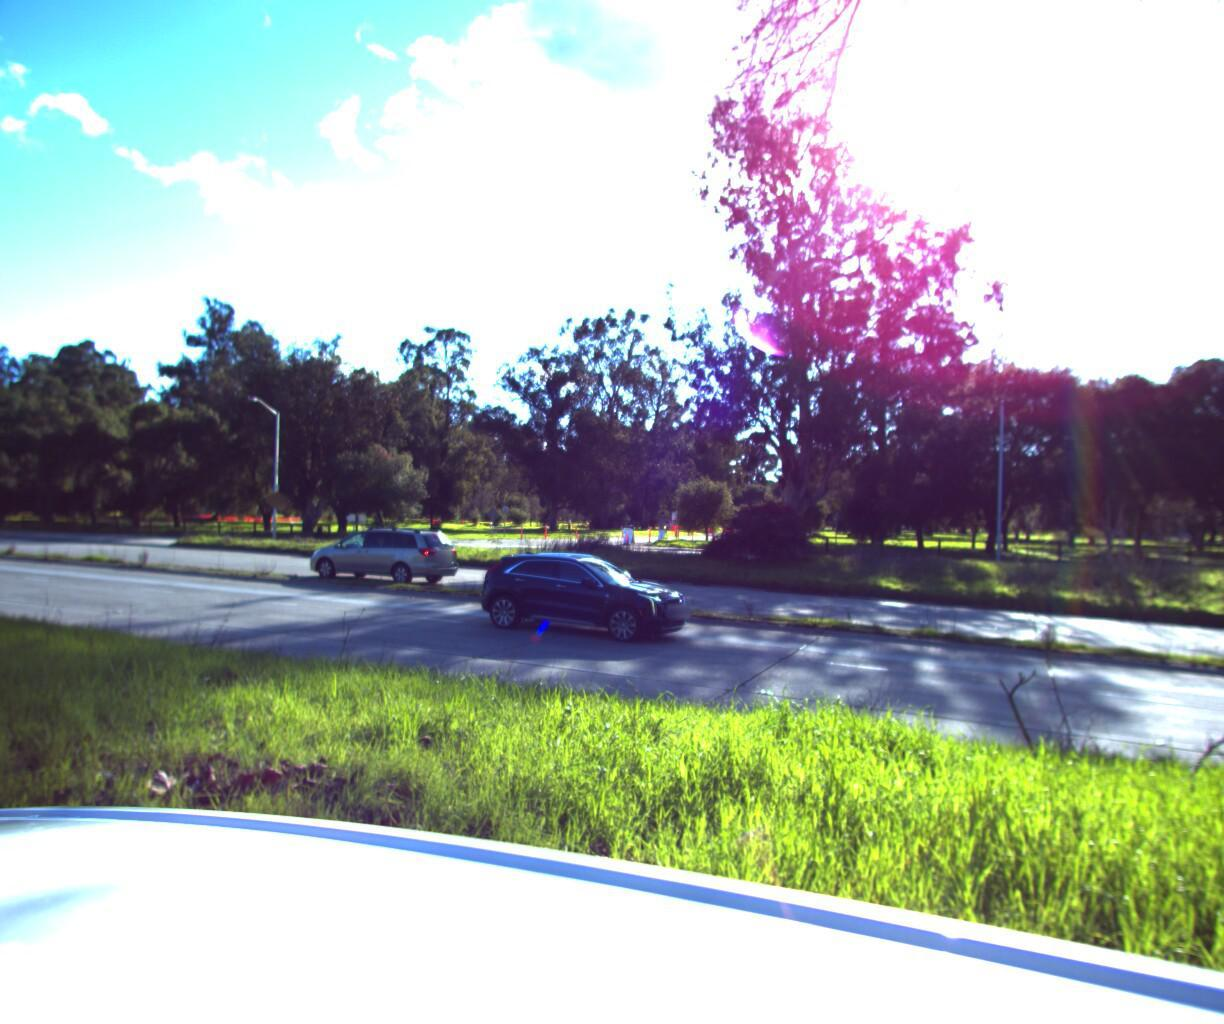car: (471, 544, 700, 644), (296, 515, 462, 583)
